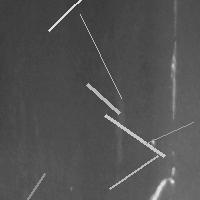scratches: (75, 9, 126, 103), (100, 110, 169, 161), (104, 151, 162, 194), (44, 0, 109, 35), (141, 117, 198, 148), (82, 79, 124, 118), (2, 169, 49, 200), (167, 40, 179, 121), (148, 165, 176, 199)
